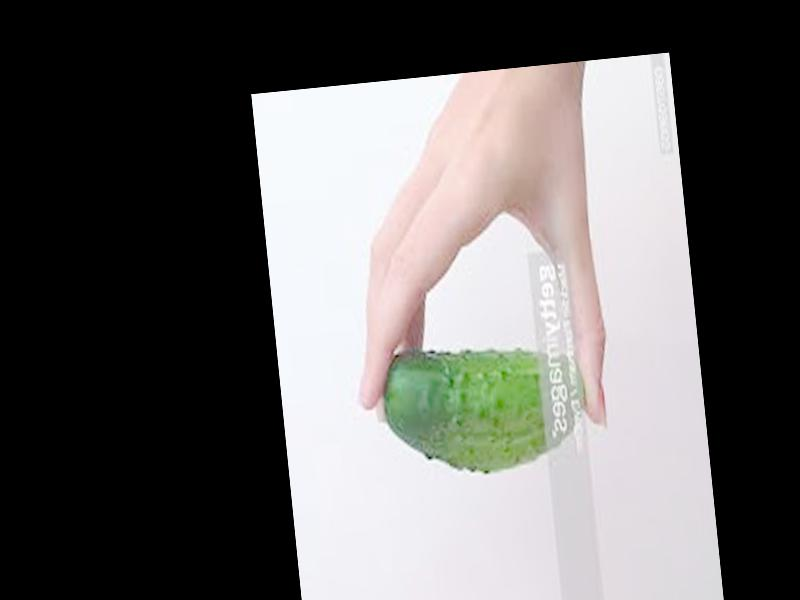Cucumber: (378, 336, 592, 483)
